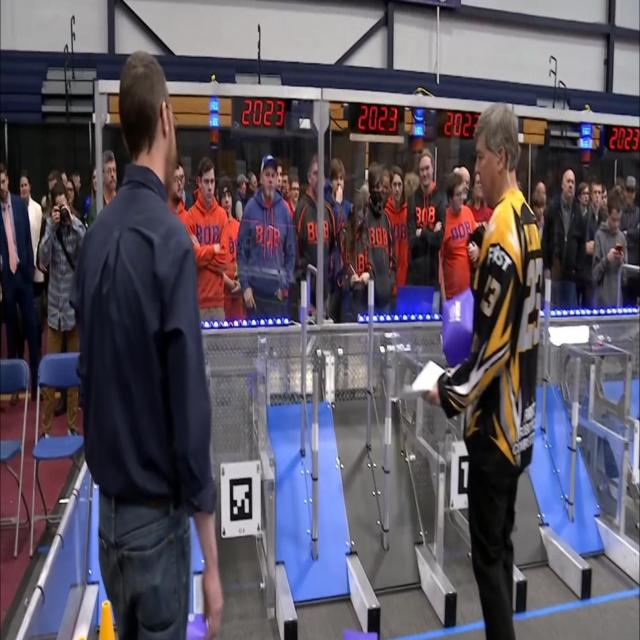frc_cone: (96, 599, 120, 640)
frc_cube: (440, 294, 478, 366), (184, 611, 213, 640), (336, 623, 384, 640)
